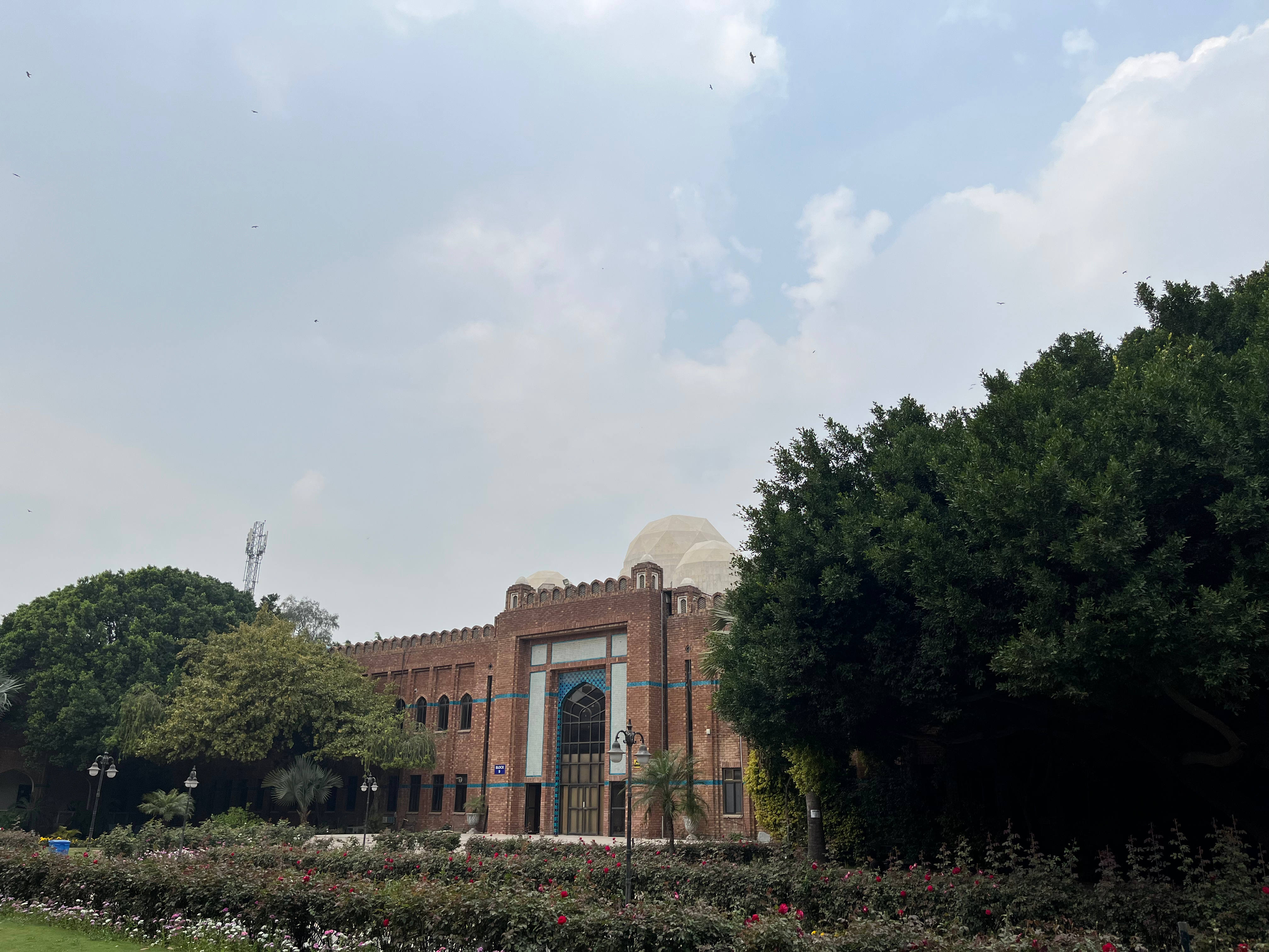Block B: (244, 516, 872, 844)
